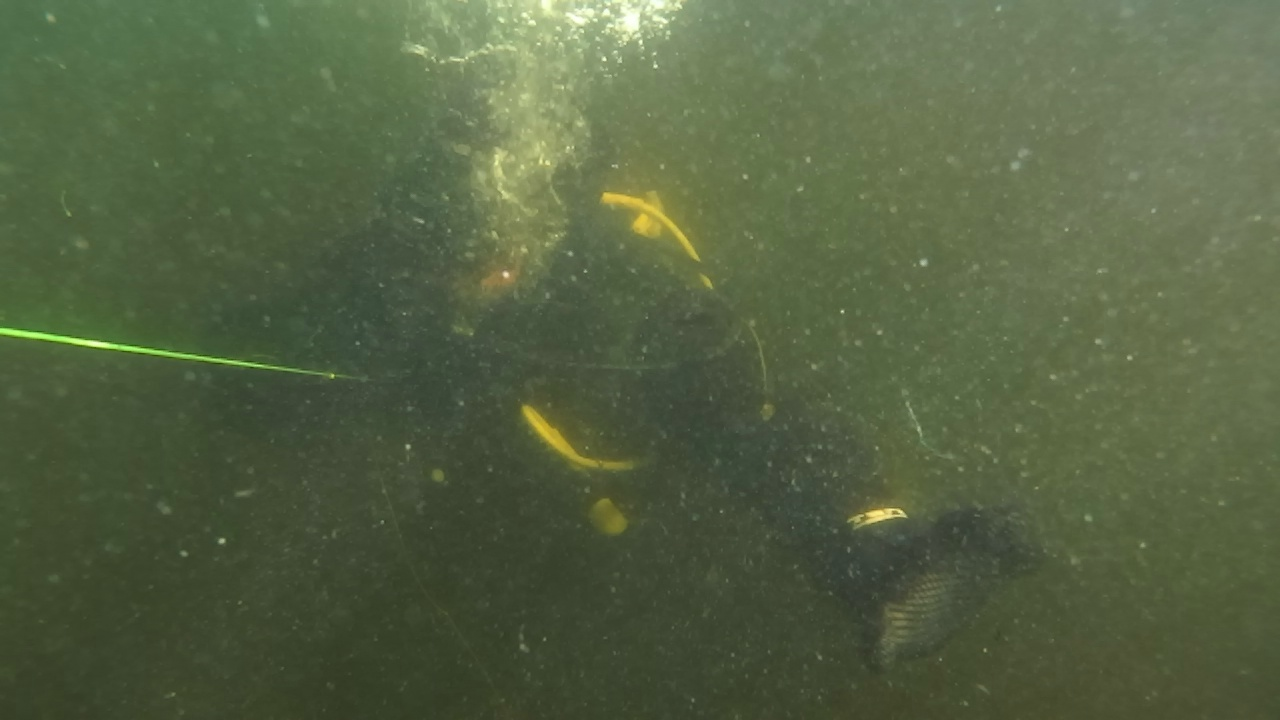Diver: (210, 74, 1056, 718)
Hand: (824, 478, 1052, 690)
Head: (382, 106, 602, 318)
